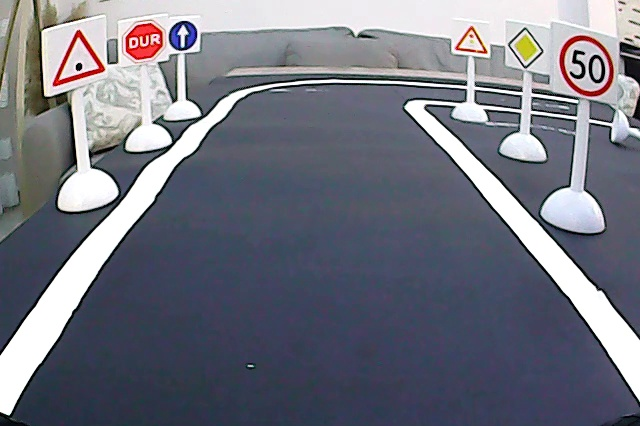green light: (42, 30, 108, 89)
red light: (457, 25, 488, 56)
speed limit 50: (554, 25, 617, 100)
stop sign: (119, 20, 169, 64)
